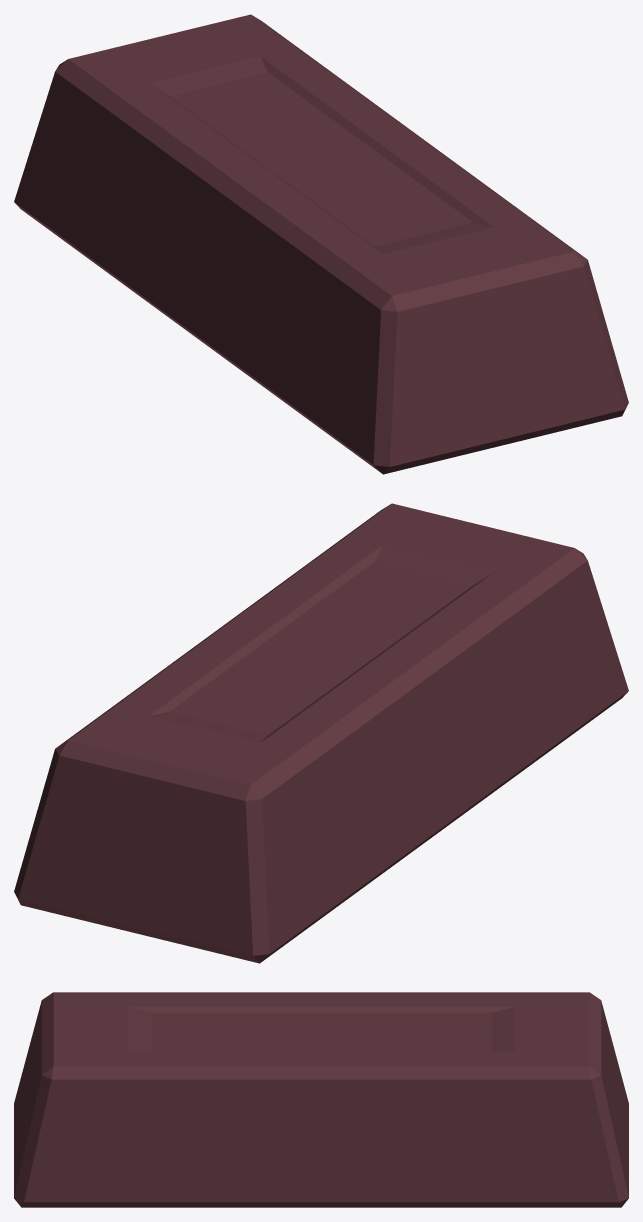
The model's file is resources-gold-brick.glb.
The picture shows the model from 3 angles, top to bottom: view 1: azimuth 30°, elevation 25°; view 2: azimuth 150°, elevation 25°; view 3: azimuth 270°, elevation 25°; orthographic projection. The views are drawn at different scales.
Parts seen in each view (by area): view 1: gold-brick; view 2: gold-brick; view 3: gold-brick.
Part boxes in pixels (x1=…): gold-brick: x1=14, y1=14, x2=628, y2=474; gold-brick: x1=14, y1=503, x2=628, y2=963; gold-brick: x1=14, y1=992, x2=628, y2=1207.
Size of the model in its own units: 0.0789 by 0.0465 by 0.1986.
